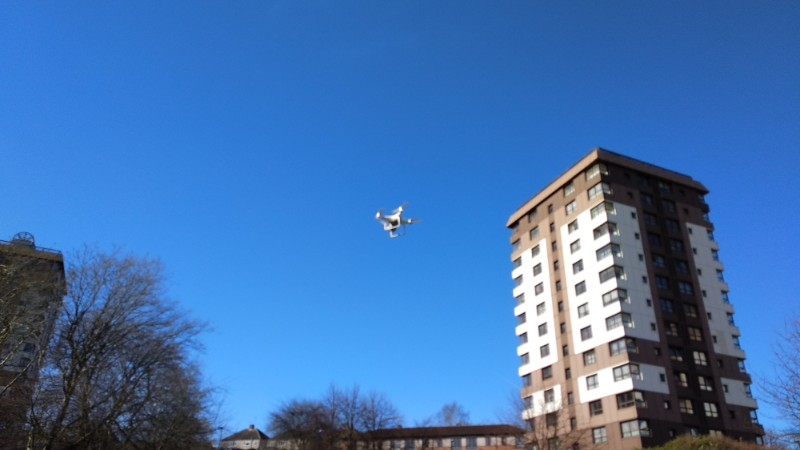drone: (372, 200, 425, 241)
